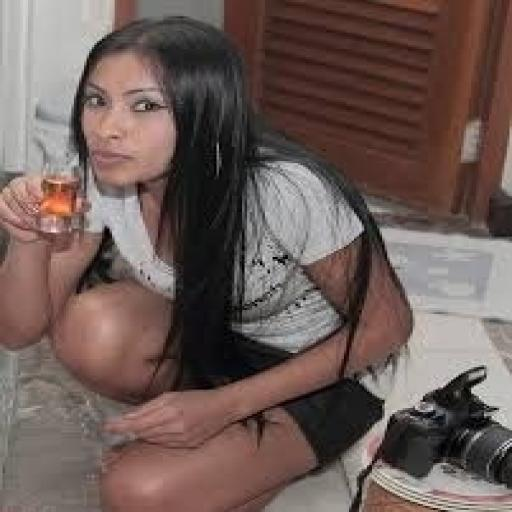drinking: (33, 159, 84, 235)
